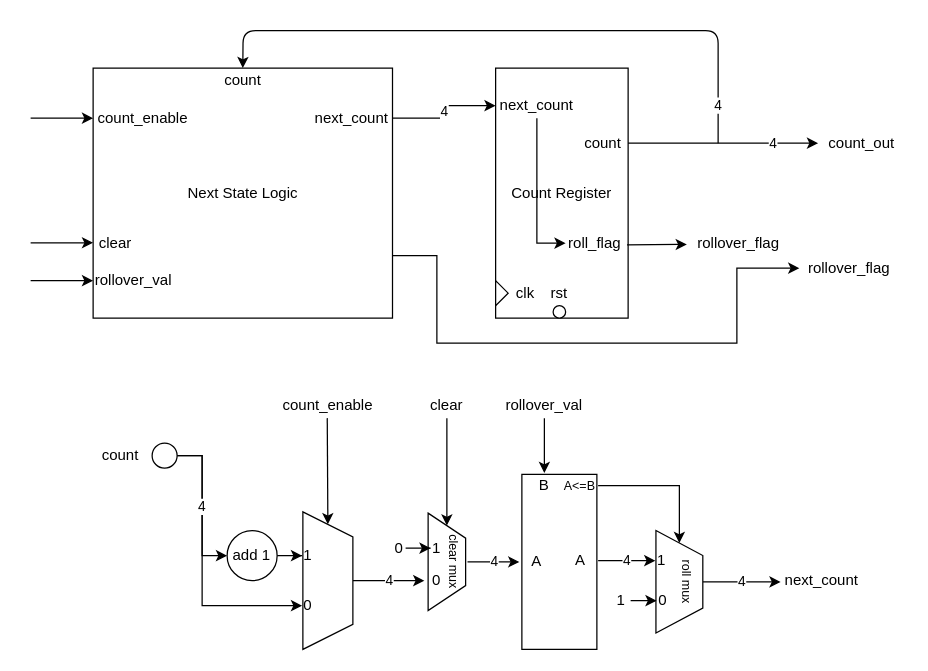
The diagram is 928 pixels wide and 671 high, and some of its shapes have lost their labels. Here are the shapes that lost their labels. From the top down, the box of each, then its label:
(302, 511, 353, 649): increment mux
(521, 473, 597, 649): Magnitude Comparator
